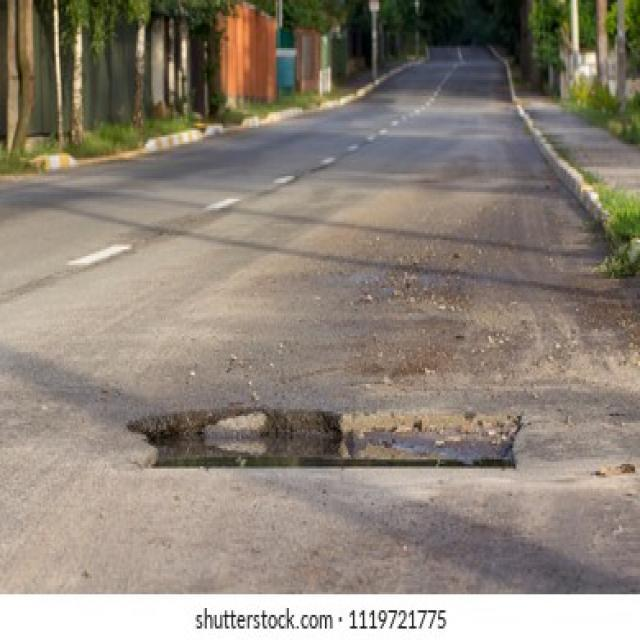Pothole: (126, 405, 524, 473)
